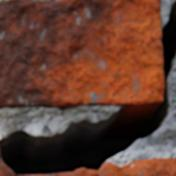brick: (0, 0, 163, 108)
broken_brick: (41, 159, 175, 175), (0, 152, 14, 175)
crack: (0, 1, 175, 175)
